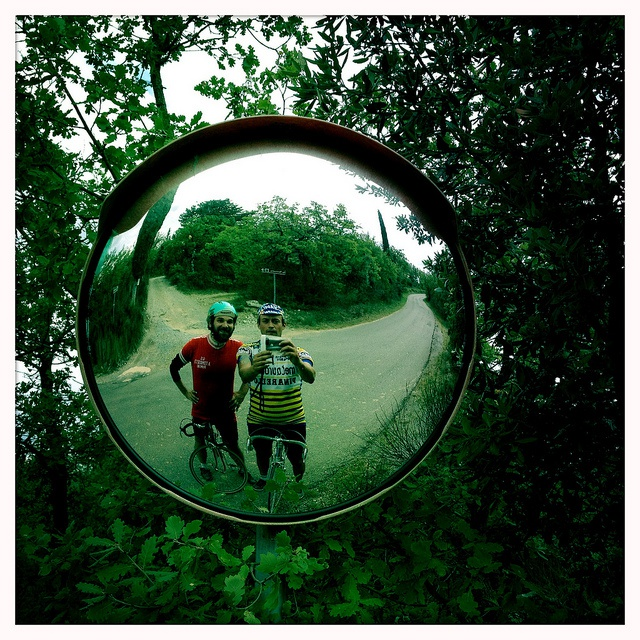non-vehicle: (245, 434, 309, 515), (183, 426, 247, 492)
